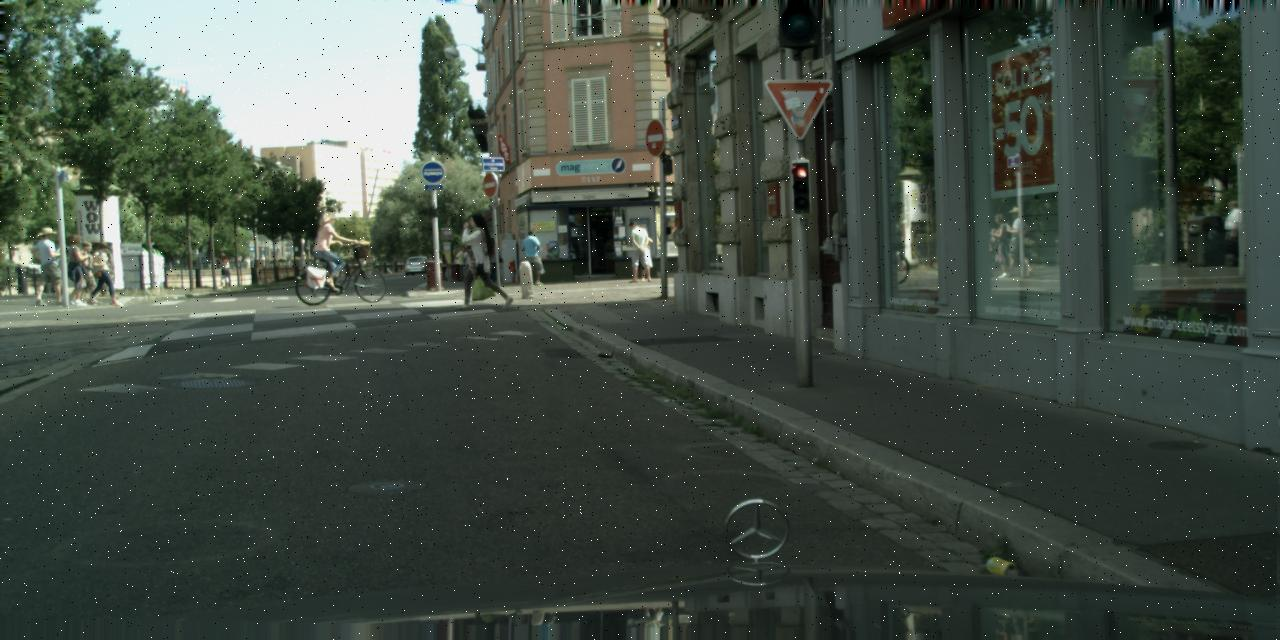ped: (460, 212, 498, 307), (315, 212, 346, 288), (34, 227, 64, 304), (60, 234, 90, 305), (91, 241, 116, 306), (73, 241, 98, 302), (624, 221, 649, 281), (629, 223, 652, 280), (520, 229, 542, 284), (216, 253, 231, 288), (456, 246, 468, 282), (435, 250, 447, 280)
